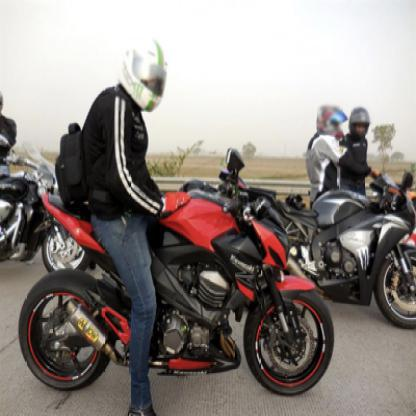Helmet: (120, 34, 165, 115), (314, 102, 344, 140), (350, 105, 370, 138)
